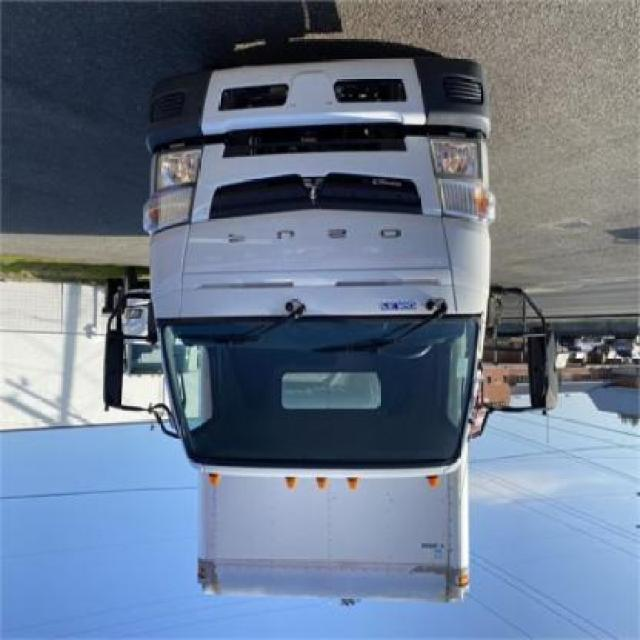truck: (103, 56, 547, 609)
